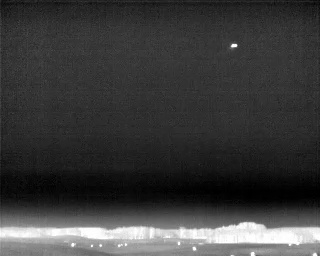AIRPLANE: (228, 40, 240, 51)
